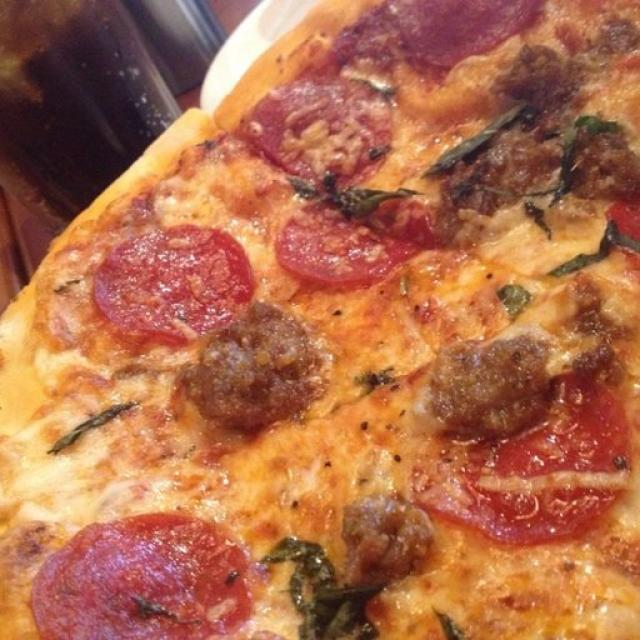Basil: (273, 543, 377, 638), (421, 103, 518, 174), (47, 396, 132, 457), (281, 172, 404, 210), (555, 111, 605, 200), (549, 222, 612, 282), (525, 199, 555, 240), (500, 281, 529, 319), (357, 367, 390, 391), (51, 276, 82, 298)
Beef: (174, 303, 318, 431), (435, 342, 545, 430), (435, 125, 553, 205), (338, 498, 427, 586), (570, 117, 640, 197), (496, 47, 571, 110)
Pepperoni: (416, 383, 626, 552), (37, 515, 240, 640), (96, 227, 255, 335), (280, 194, 426, 288), (246, 76, 383, 164), (389, 0, 536, 67), (610, 203, 640, 268)
Pizza: (0, 0, 640, 640)
